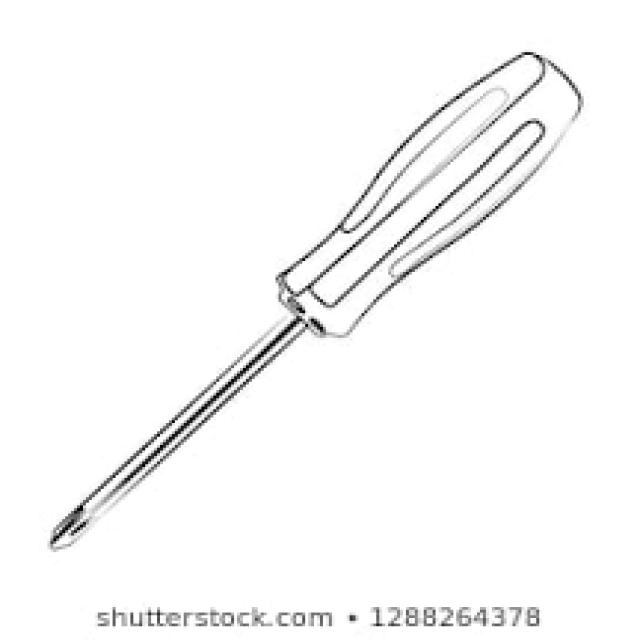screw driver: (15, 16, 639, 584)
